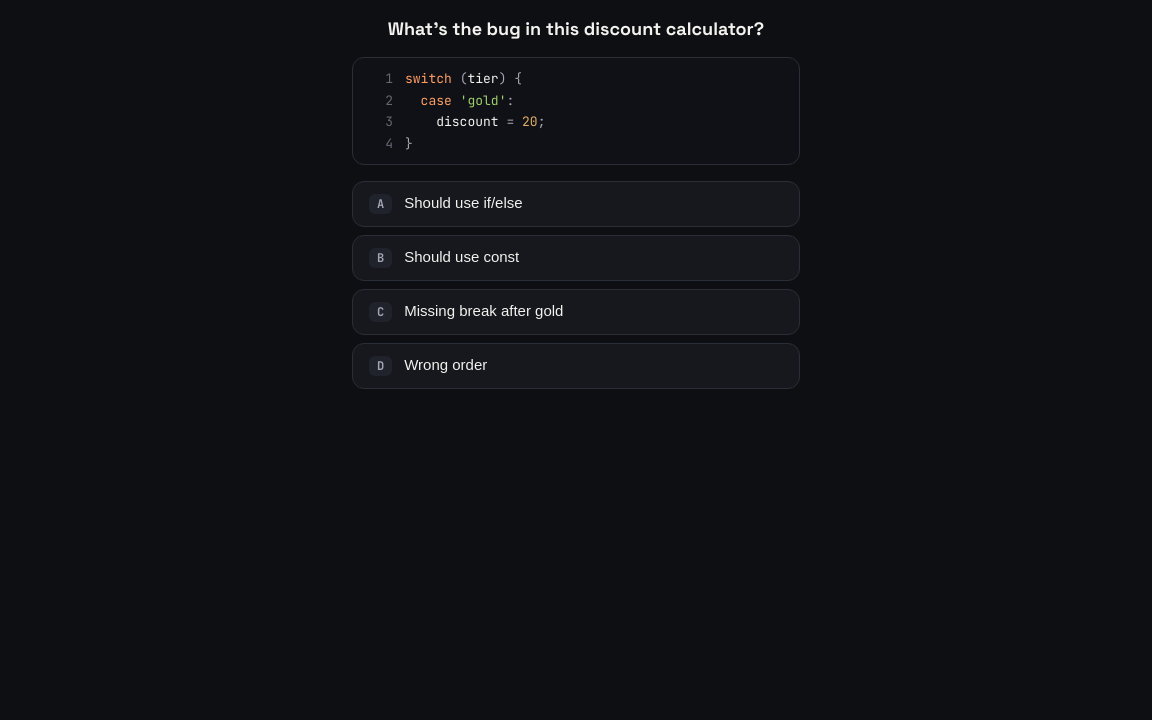
PuzzleCardShell › mobile feedback drawer: renders a backtick span in the explanation as an actual <code> element, not literal backticks
Click the button "C Missing break after gold" at (484, 311), box left=352, top=289, right=800, bottom=335
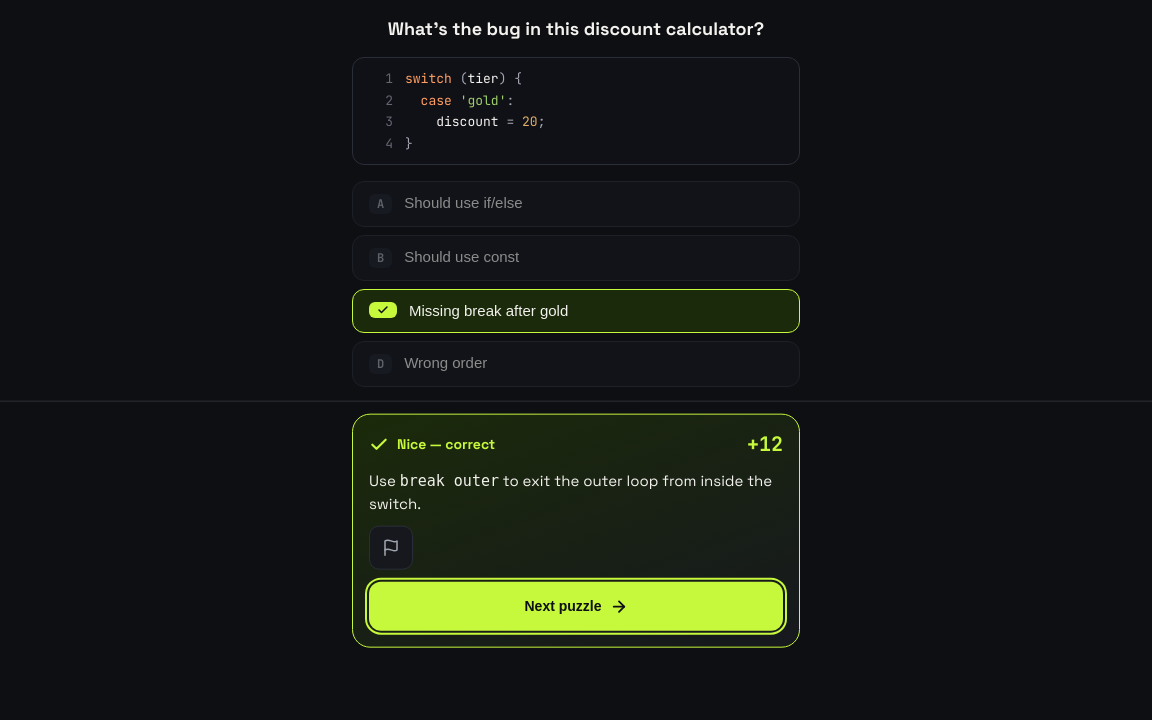
Check: the text "break outer" is shown, box left=400, top=472, right=499, bottom=490
